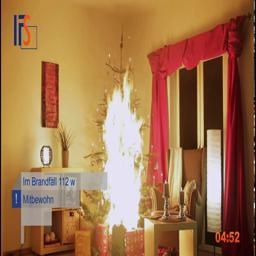fire: (97, 74, 152, 235)
